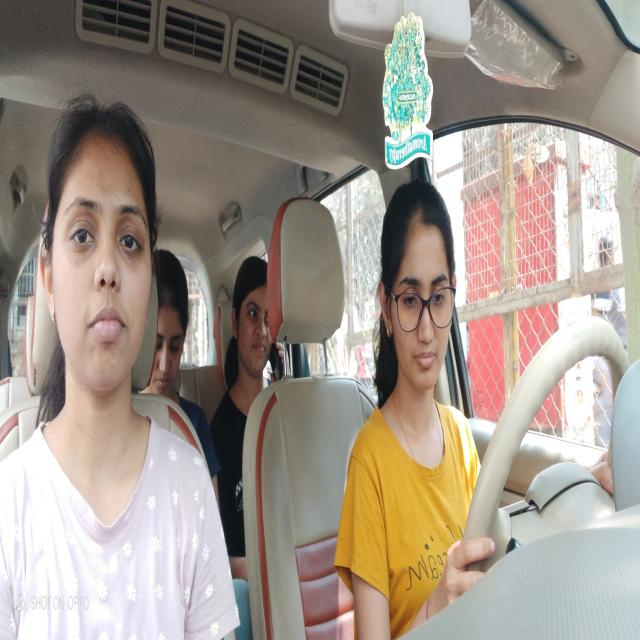person: (40, 94, 159, 394), (377, 183, 457, 402), (231, 249, 276, 383), (155, 243, 190, 403)
